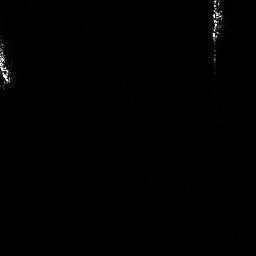ship: (197, 1, 232, 62), (1, 27, 13, 85)
